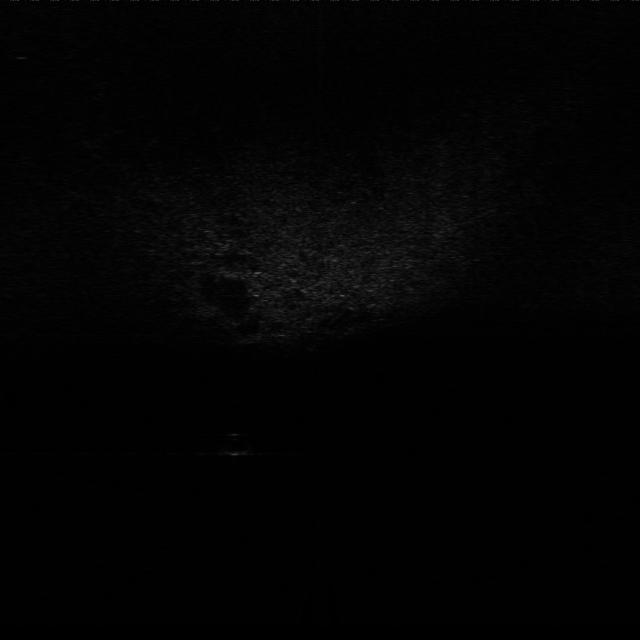ball: (217, 432, 254, 456)
